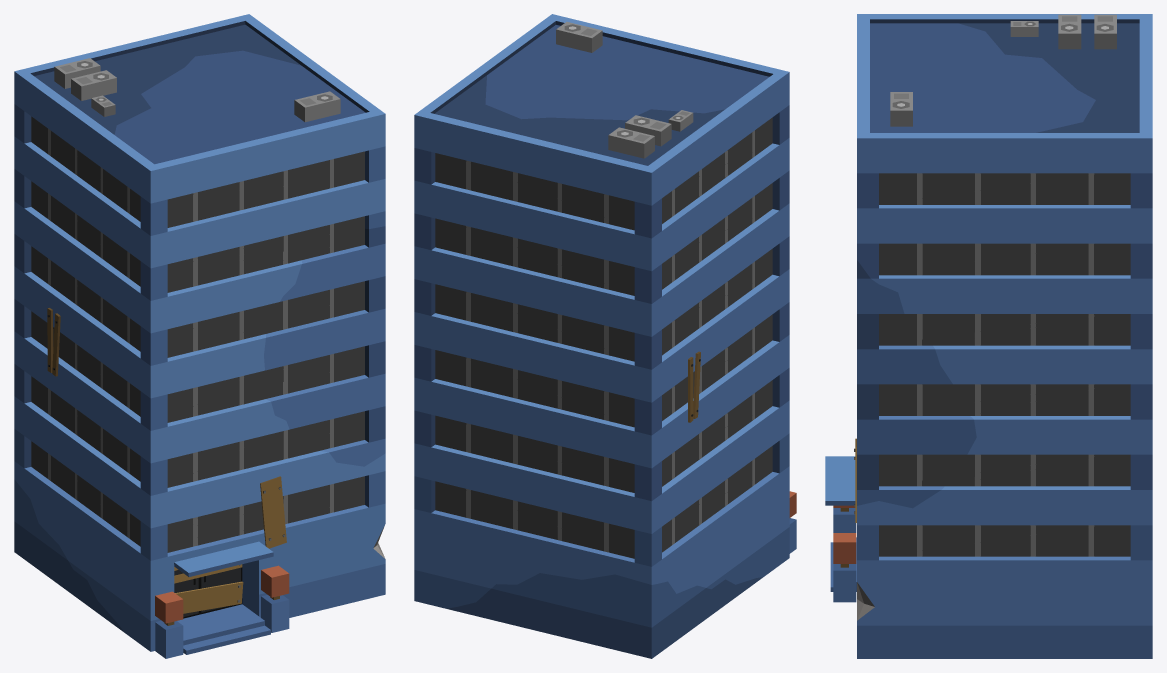
Rendered from SA_Bld_OfficeBlue_03.glb.
3 views of the same model, side by side, from view 1: azimuth 30°, elevation 25°; view 2: azimuth 150°, elevation 25°; view 3: azimuth 270°, elevation 25° (orthographic). The views are drawn at different scales.
Visible parts, largest first — view 1: SA_Bld_OfficeBlue_03; view 2: SA_Bld_OfficeBlue_03; view 3: SA_Bld_OfficeBlue_03.
Boxes of the visible parts, box(x1,y1,x2,y2) form: SA_Bld_OfficeBlue_03: box(14, 14, 385, 658); SA_Bld_OfficeBlue_03: box(414, 14, 796, 658); SA_Bld_OfficeBlue_03: box(825, 14, 1152, 658).
Bounding box in the file's own units: 5.81 × 11.44 × 6.37.
Materials: 1 (1 with a texture image).
